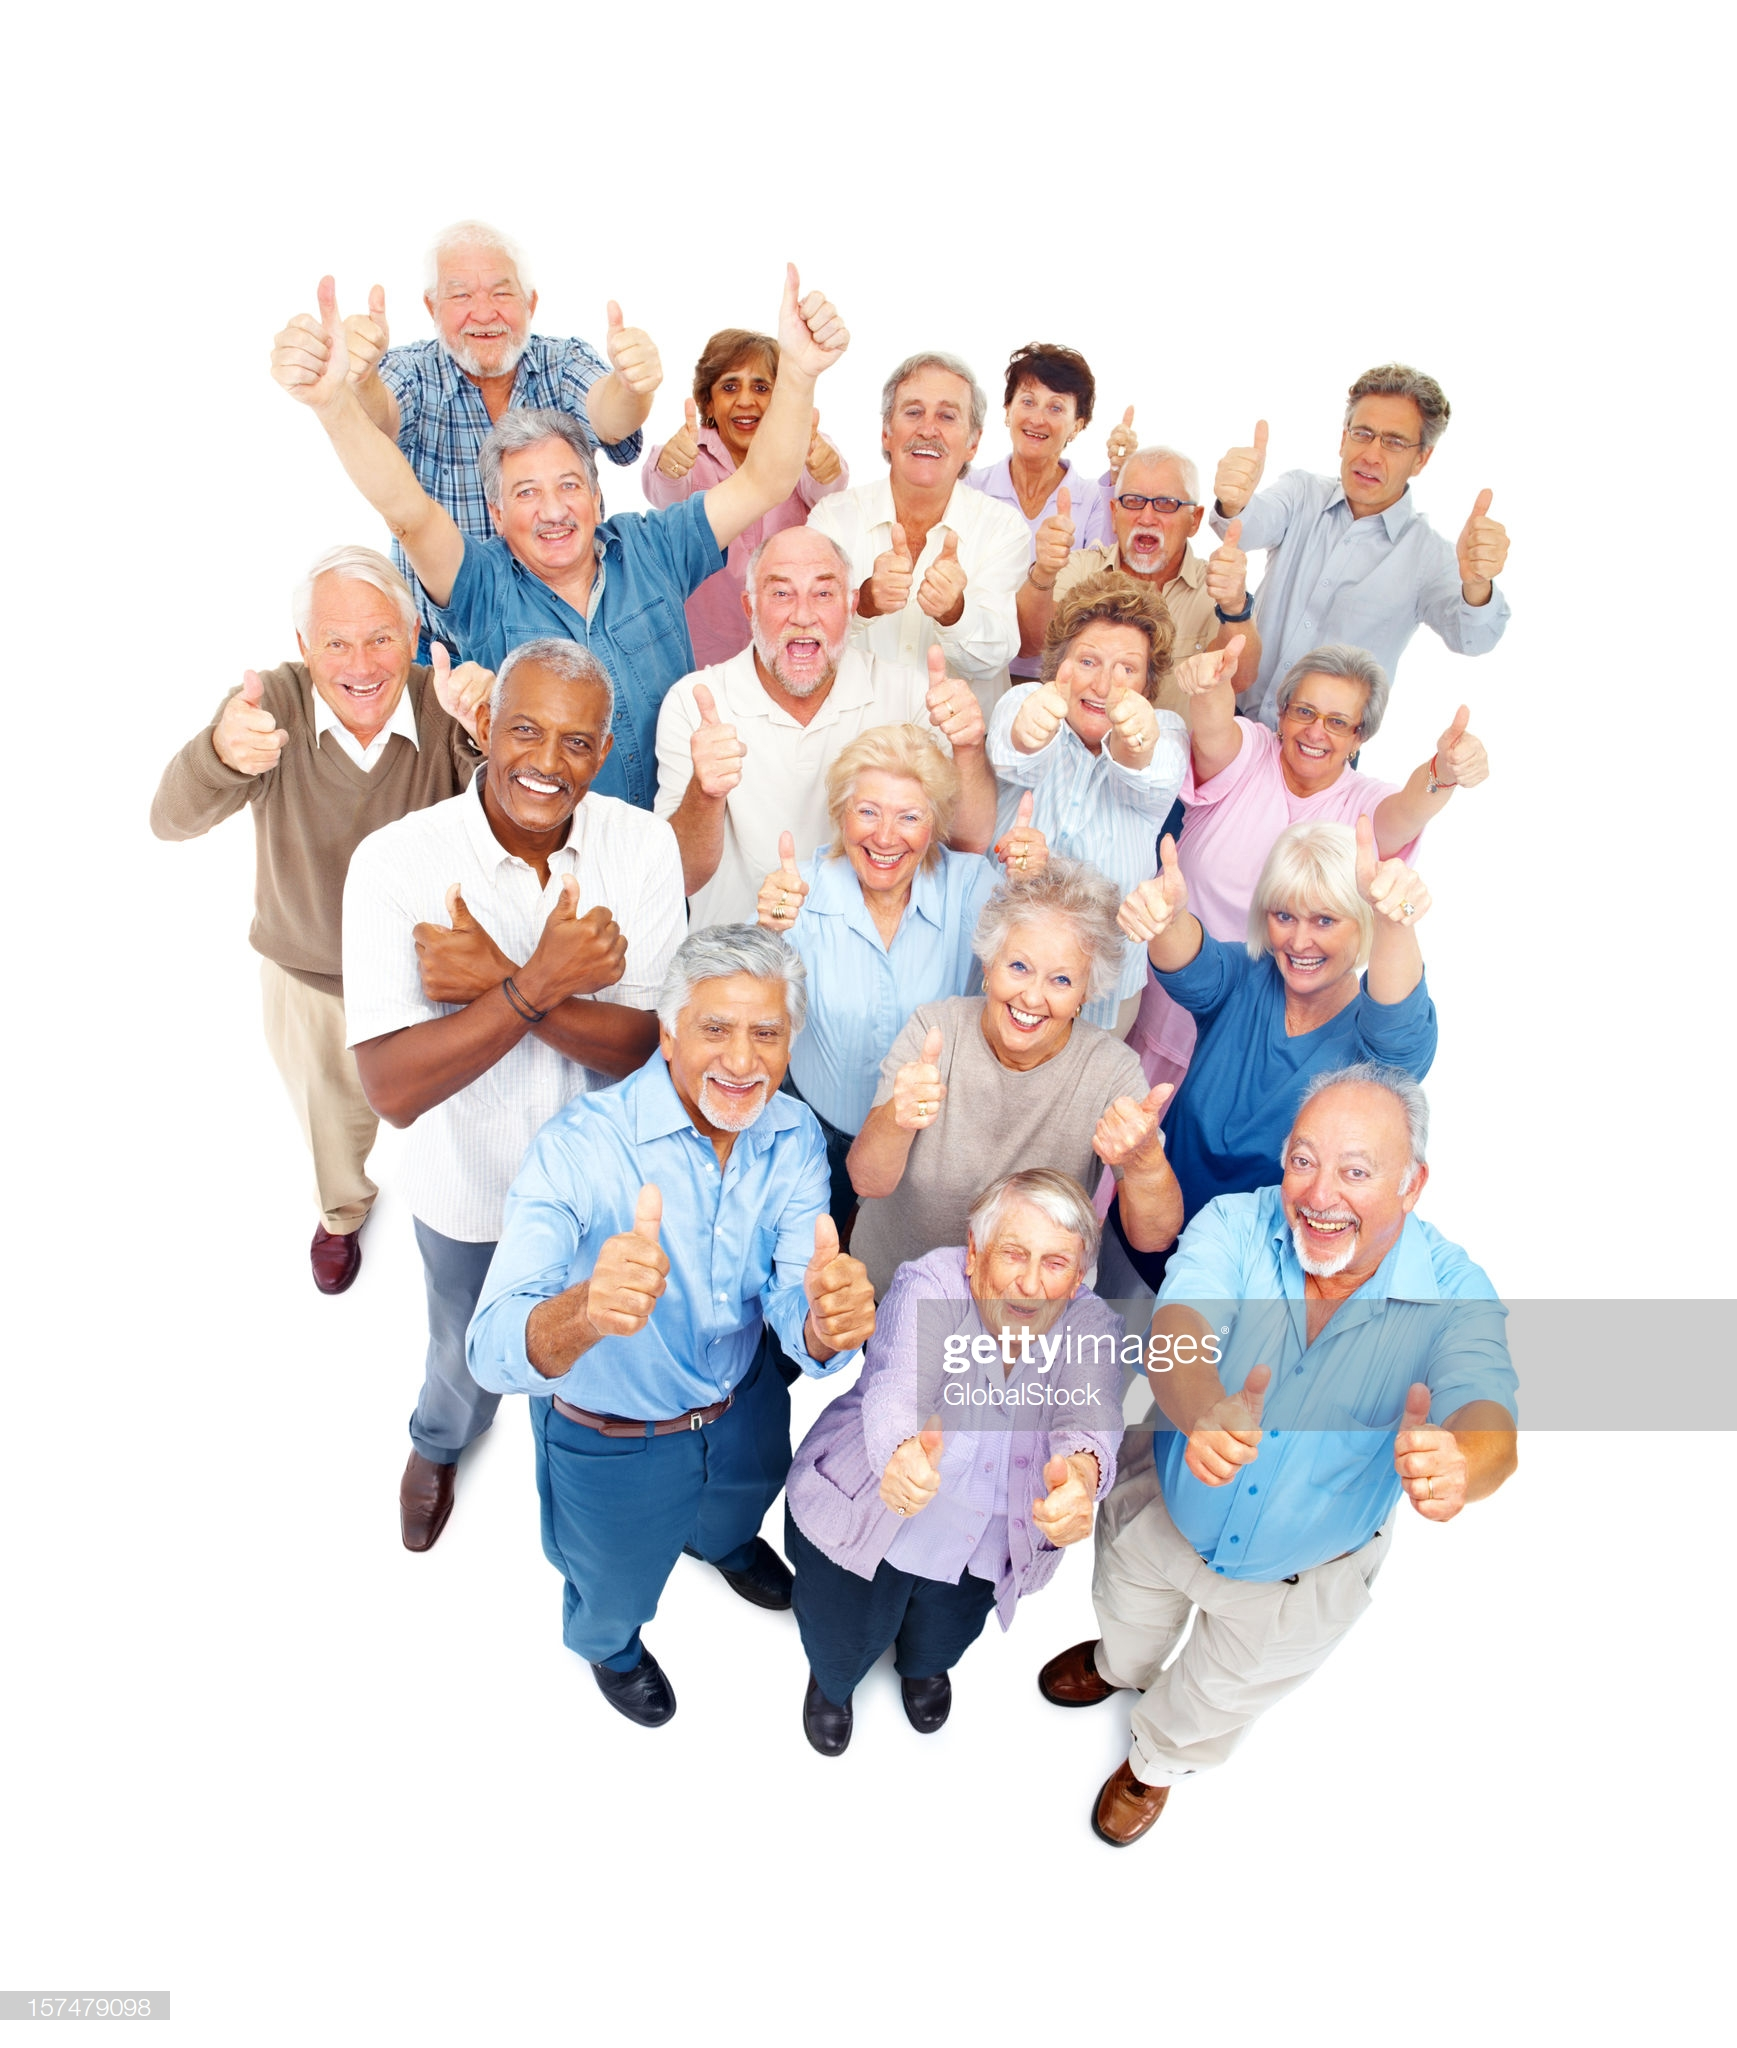thumbsup: (586, 1183, 670, 1338), (1182, 1362, 1272, 1486), (801, 1213, 877, 1352), (1394, 1381, 1468, 1523), (548, 872, 627, 984), (1354, 815, 1434, 927), (269, 276, 339, 389), (1113, 834, 1179, 944), (412, 882, 470, 1004), (1091, 1082, 1175, 1163), (781, 260, 851, 357), (688, 684, 746, 796), (881, 1412, 943, 1517), (925, 642, 986, 748), (226, 668, 283, 775), (893, 1025, 948, 1130), (1012, 656, 1074, 749), (605, 300, 663, 394), (756, 829, 806, 934), (1105, 661, 1160, 754), (429, 639, 493, 717), (994, 791, 1048, 880), (1213, 419, 1268, 505), (1174, 632, 1248, 696), (917, 529, 968, 618), (345, 282, 389, 382), (1465, 487, 1511, 580), (870, 522, 913, 613), (1446, 703, 1491, 787), (657, 396, 700, 481), (1205, 517, 1248, 601), (1034, 486, 1075, 574), (805, 406, 843, 482), (1105, 405, 1132, 470)
